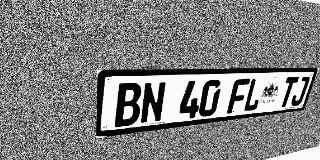0: (198, 80, 223, 117)
4: (178, 80, 204, 120)
B: (115, 82, 142, 127)
F: (227, 79, 250, 114)
J: (290, 76, 311, 106)
L: (242, 78, 265, 112)
N: (140, 82, 167, 124)
T: (277, 77, 299, 108)
